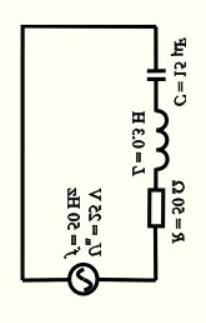inductor: (142, 103, 171, 179)
